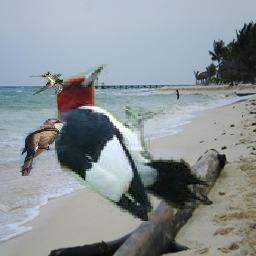Cuckoo: (21, 118, 68, 176)
Swallow: (29, 71, 63, 95)
Woodpecker: (56, 65, 213, 222)
